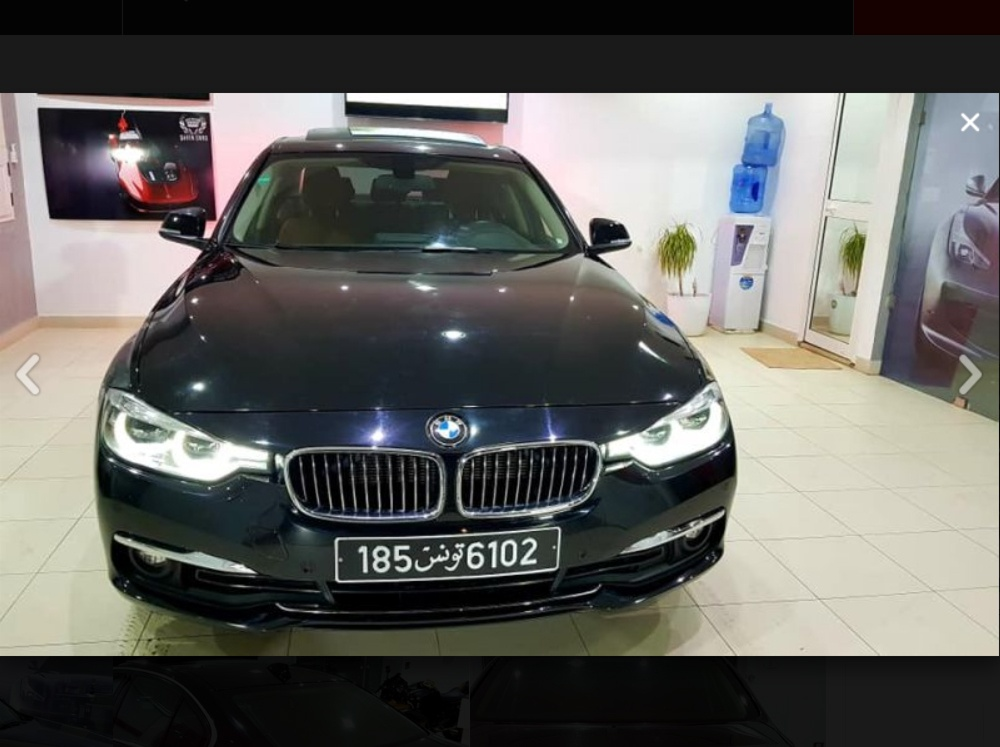LP: (329, 528, 565, 584)
